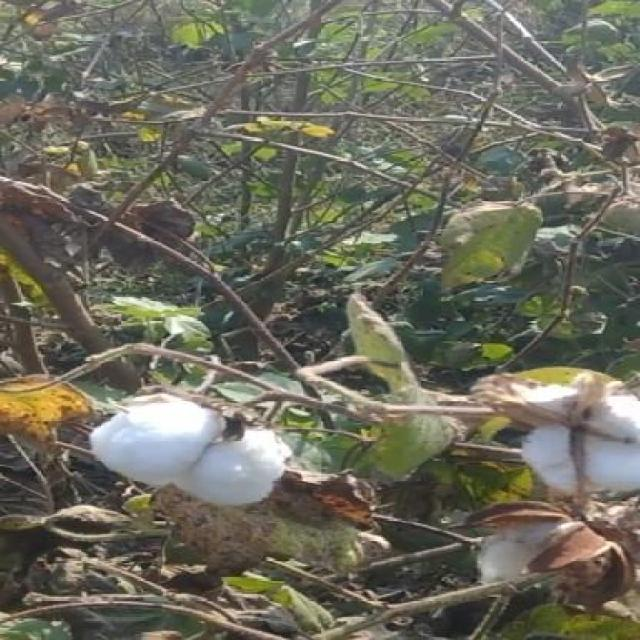cotton_ready: (83, 386, 357, 505), (468, 372, 640, 494)
